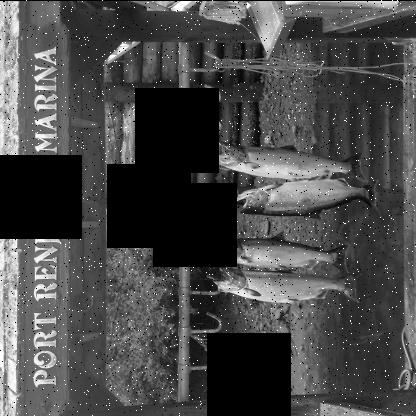fish: (204, 140, 371, 184), (236, 176, 382, 222), (204, 231, 354, 275), (206, 264, 361, 306)
